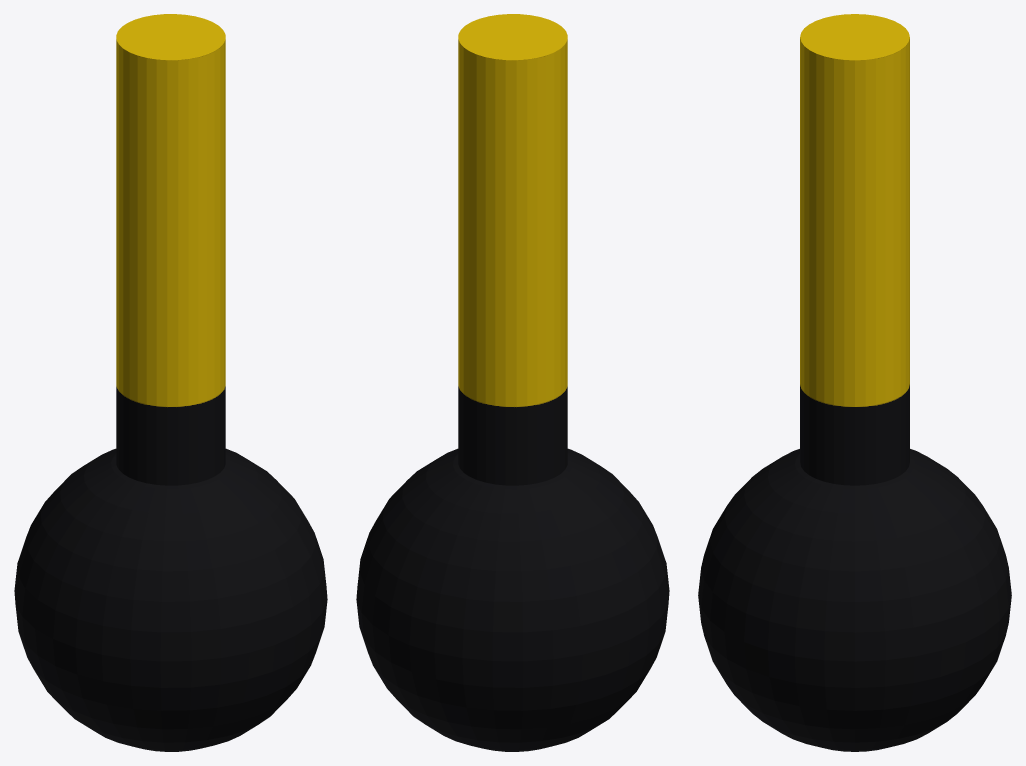
Rendered from buoy_south.fbx.
3 renders of one model, left to right at view 1: azimuth 30°, elevation 25°; view 2: azimuth 150°, elevation 25°; view 3: azimuth 270°, elevation 25°, orthographic.
Parts seen in each view (by area): view 1: Sphere.003, Cylinder.021; view 2: Sphere.003, Cylinder.021; view 3: Sphere.003, Cylinder.021.
Boxes of the visible parts, box(x1,y1,x2,y2) form: Sphere.003: box(14, 448, 327, 751); Cylinder.021: box(116, 14, 225, 485); Sphere.003: box(356, 448, 669, 751); Cylinder.021: box(458, 14, 567, 485); Sphere.003: box(698, 449, 1011, 751); Cylinder.021: box(800, 14, 909, 485).
Bounding box in the file's own units: 40 × 98.5 × 40.
Materials: 2 (2 with a texture image).
